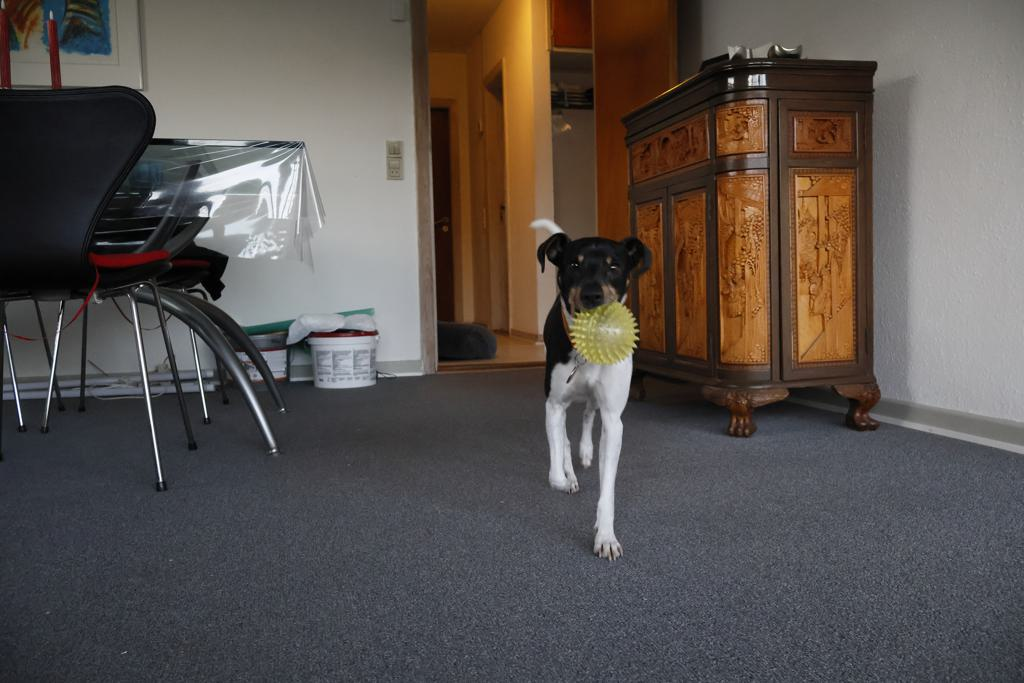Dog: (517, 209, 668, 565)
